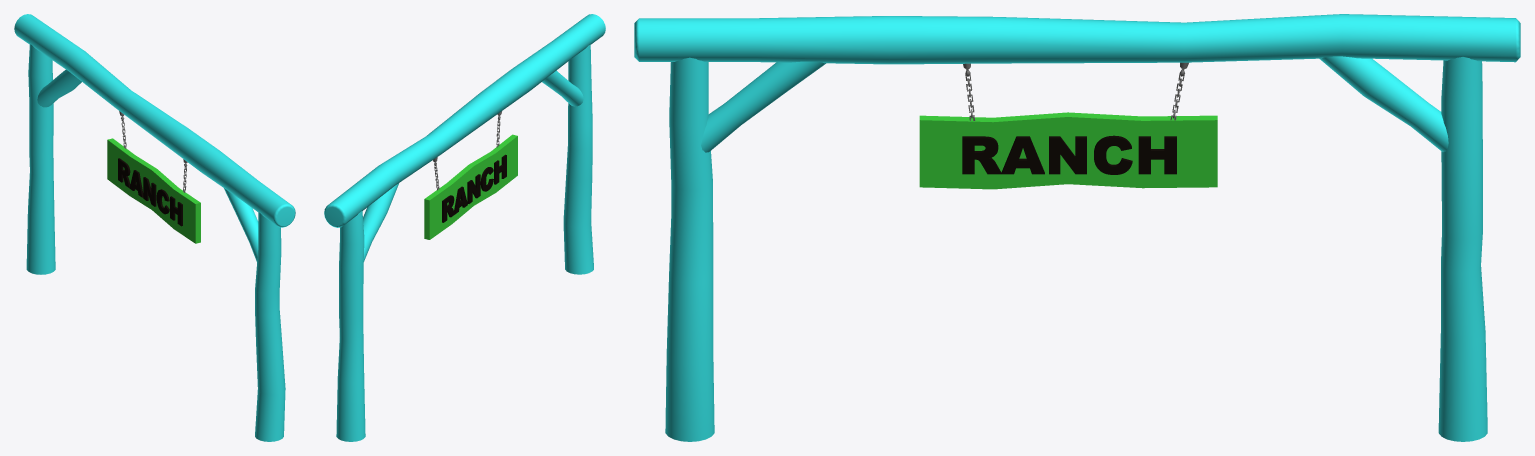
The model's file is EntreeRanch.fbx.
3 renders of one model, left to right at view 1: azimuth 30°, elevation 25°; view 2: azimuth 150°, elevation 25°; view 3: azimuth 270°, elevation 25°, orthographic. The views are drawn at different scales.
Visible parts, largest first — view 1: Cylinder005; view 2: Cylinder005; view 3: Cylinder005.
Boxes of the visible parts, x1,y1,x2,y2 form: Cylinder005: (14, 14, 295, 441); Cylinder005: (324, 14, 605, 441); Cylinder005: (634, 14, 1520, 441).
Size of the model in its own units: 113 by 975 by 1886.
